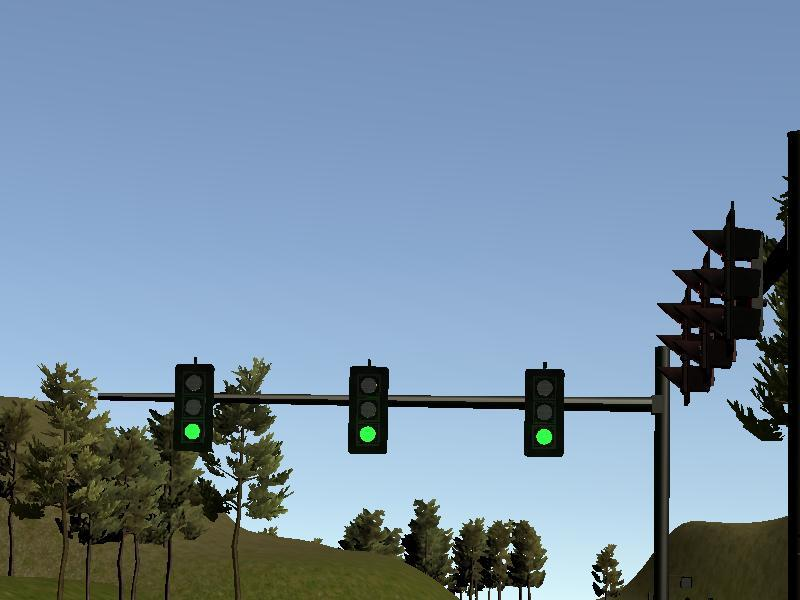Green: (350, 366, 386, 453), (176, 364, 211, 449), (528, 370, 562, 454)
